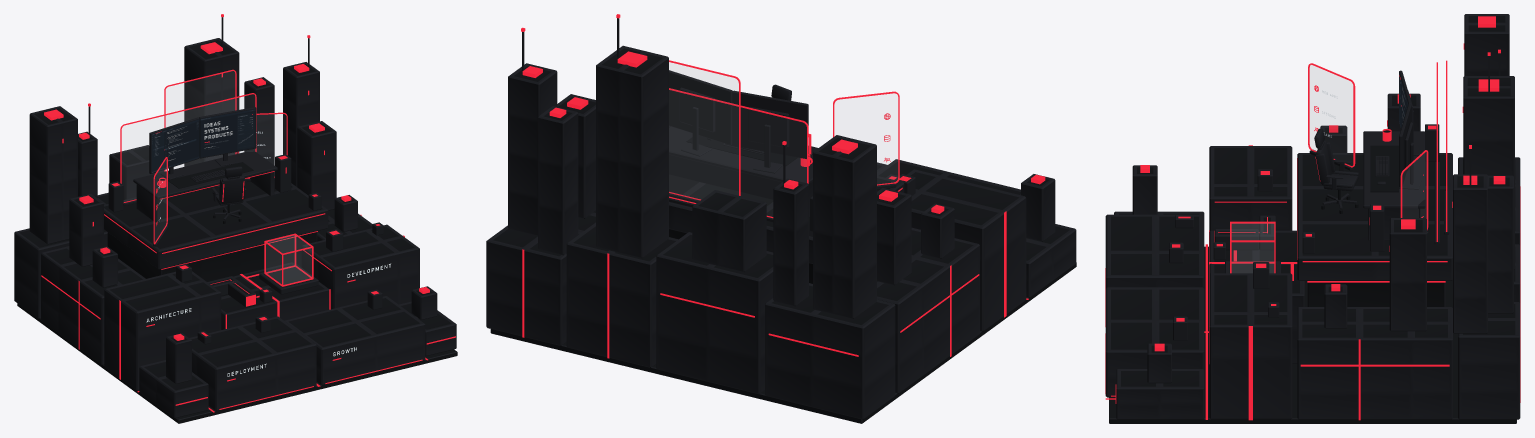
File: about-workspace.glb
3 views of the same model, side by side, from view 1: azimuth 30°, elevation 25°; view 2: azimuth 150°, elevation 25°; view 3: azimuth 270°, elevation 25° (orthographic). The views are drawn at different scales.
Parts seen in each view (by area): view 1: BASE_Static, PLT_Desk, PLT_Architecture, PLT_Deployment, PLT_Growth, PLT_Development, TOWER_01, SCREEN_Main, TOWER_04, DESK_Table, TOWER_09, TOWER_06 (+14 smaller); view 2: BASE_Static, TOWER_04, TOWER_01, PLT_Architecture, SCREEN_Main, PANEL_Center, TOWER_06, TOWER_05, DESK_Table, TOWER_03, TOWER_02, TOWER_07 (+6 smaller); view 3: BASE_Static, PLT_Development, PLT_Desk, PLT_Growth, PLT_Deployment, PLT_Architecture, TOWER_06, TOWER_04, TOWER_09, DESK_Table, TOWER_05, TOWER_01 (+14 smaller).
Part boxes in pixels (x1,y1,x2,y2): BASE_Static: (14,192,457,423); PLT_Desk: (104,171,328,269); PLT_Architecture: (104,271,221,390); PLT_Deployment: (189,316,316,411); PLT_Growth: (284,296,425,385); PLT_Development: (301,224,419,309); TOWER_01: (29,106,77,244); SCREEN_Main: (149,107,256,179); TOWER_04: (184,14,239,166); DESK_Table: (133,150,277,223); TOWER_09: (297,121,336,210); TOWER_06: (283,35,319,186); BASE_Static: (486,210,1076,423); TOWER_04: (596,14,668,258); TOWER_01: (813,135,876,318); PLT_Architecture: (907,169,1026,331); SCREEN_Main: (669,70,808,173); PANEL_Center: (669,60,808,222); TOWER_06: (508,27,557,235); TOWER_05: (538,106,578,255); DESK_Table: (669,126,812,216); TOWER_03: (692,190,766,272); TOWER_02: (773,141,808,306); TOWER_07: (877,188,911,285); BASE_Static: (1105,157,1520,423); PLT_Development: (1209,273,1292,420); PLT_Desk: (1297,153,1452,280); PLT_Growth: (1105,287,1204,397); PLT_Deployment: (1105,214,1204,326); PLT_Architecture: (1209,145,1292,230); TOWER_06: (1452,145,1487,333); TOWER_04: (1462,52,1514,269); TOWER_09: (1389,218,1426,331); DESK_Table: (1363,131,1425,240); TOWER_05: (1488,175,1513,313); TOWER_01: (1463,14,1509,75).
Bounding box in the file's own units: 4.01 × 3.4 × 4.01.
6 materials, 1 textured.
